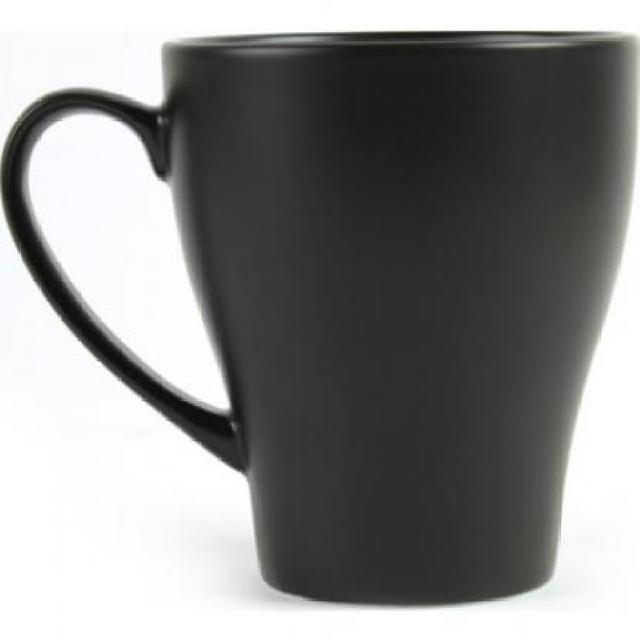taza: (0, 21, 634, 626)
